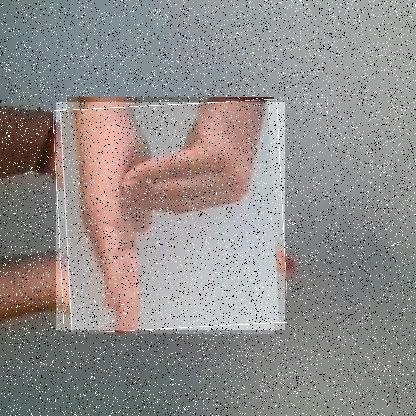Z: (56, 102, 286, 331)
